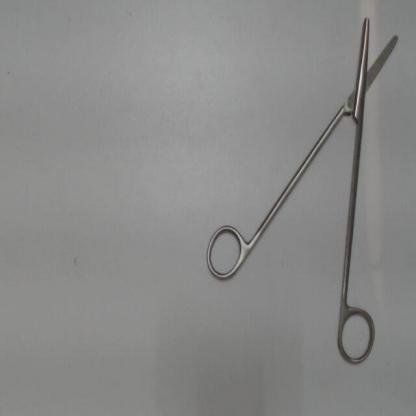9 Metzenbaum Scissors: (202, 11, 402, 373)
